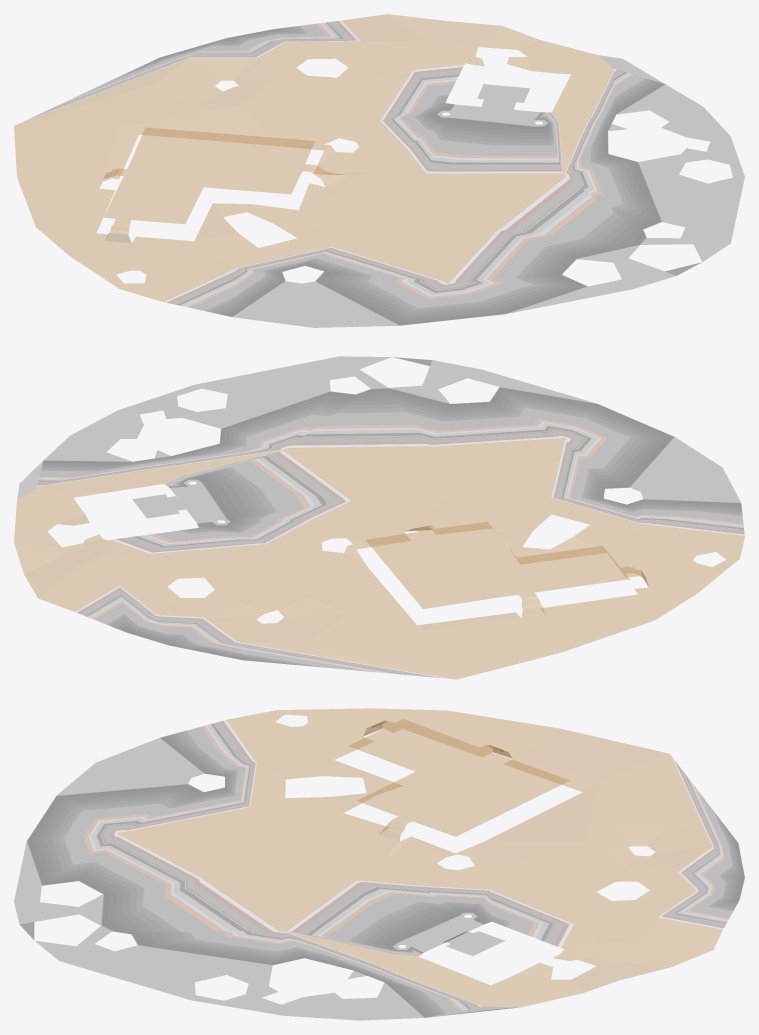
Rendered from SyntyStarterFreebie_Navmesh.glb.
3 views of the same model, one above another, from view 1: azimuth 30°, elevation 25°; view 2: azimuth 150°, elevation 25°; view 3: azimuth 270°, elevation 25° (orthographic).
Parts seen in each view (by area): view 1: Navmesh; view 2: Navmesh; view 3: Navmesh.
Part boxes in pixels (x1,y1,x2,y2): Navmesh: (14, 14, 744, 327); Navmesh: (14, 356, 744, 679); Navmesh: (14, 708, 744, 1020).
Bounding box in the file's own units: 40.44 × 0.8886 × 40.
Materials: 1 (1 with a texture image).
